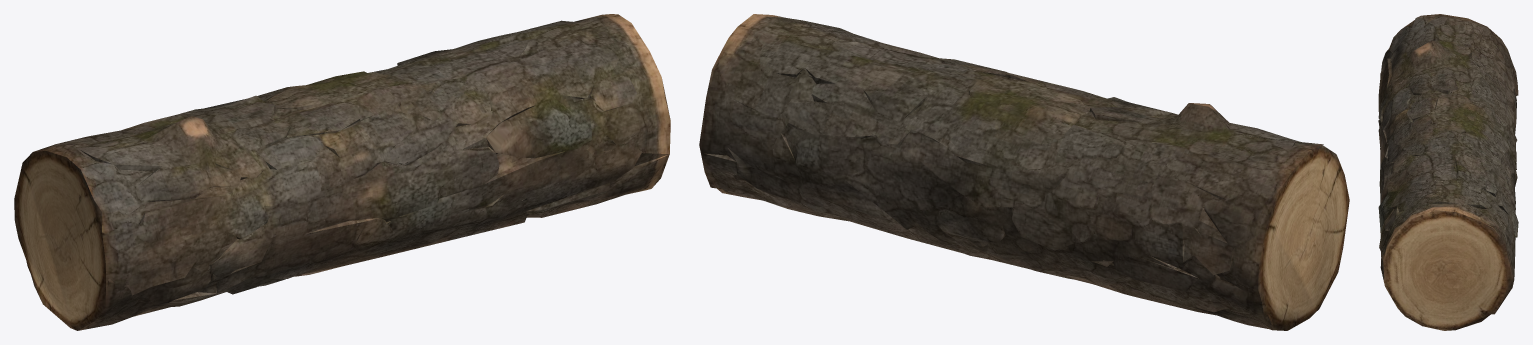
3 renders of one model, left to right at view 1: azimuth 30°, elevation 25°; view 2: azimuth 150°, elevation 25°; view 3: azimuth 270°, elevation 25°, orthographic. The views are drawn at different scales.
Parts seen in each view (by area): view 1: firewood-log; view 2: firewood-log; view 3: firewood-log.
Part boxes in pixels (x1,y1,x2,y2): firewood-log: [14, 14, 670, 330]; firewood-log: [699, 14, 1349, 330]; firewood-log: [1378, 14, 1518, 330].
Size of the model in its own units: 1.2 by 0.3771 by 0.3593.
1 material, 1 textured.
